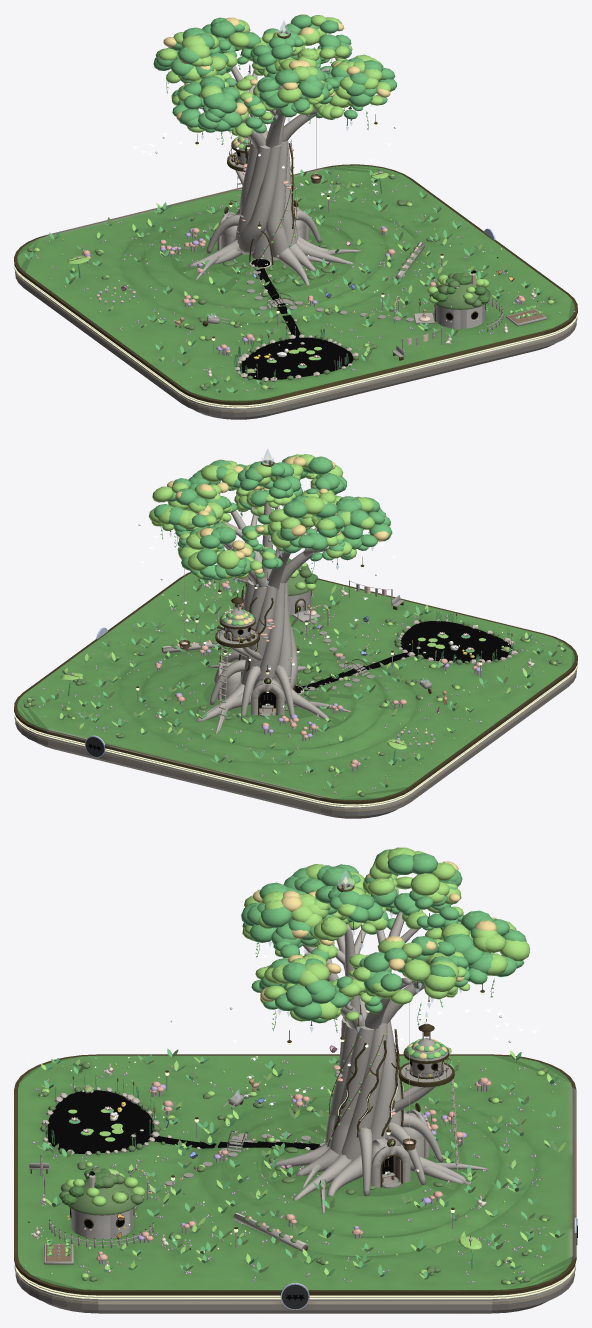
The model's file is SM_Evo_RepairCommand.fbx.
3 views of the same model, one above another, from view 1: azimuth 30°, elevation 25°; view 2: azimuth 150°, elevation 25°; view 3: azimuth 270°, elevation 25° (orthographic). The views are drawn at different scales.
Visible parts, largest first — view 1: SMN_Evo_RepairCommand, Emblem_Fx_RepairCommand; view 2: SMN_Evo_RepairCommand, Emblem_Fx_RepairCommand; view 3: SMN_Evo_RepairCommand, Emblem_Fx_RepairCommand.
Boxes of the visible parts, box(x1,y1,x2,y2) form: SMN_Evo_RepairCommand: box(14, 14, 577, 419); Emblem_Fx_RepairCommand: box(14, 20, 577, 408); SMN_Evo_RepairCommand: box(14, 454, 577, 818); Emblem_Fx_RepairCommand: box(14, 449, 577, 807); SMN_Evo_RepairCommand: box(14, 847, 577, 1313); Emblem_Fx_RepairCommand: box(14, 869, 577, 1300).
Size of the model in its own units: 2.86 by 1.89 by 2.86.
